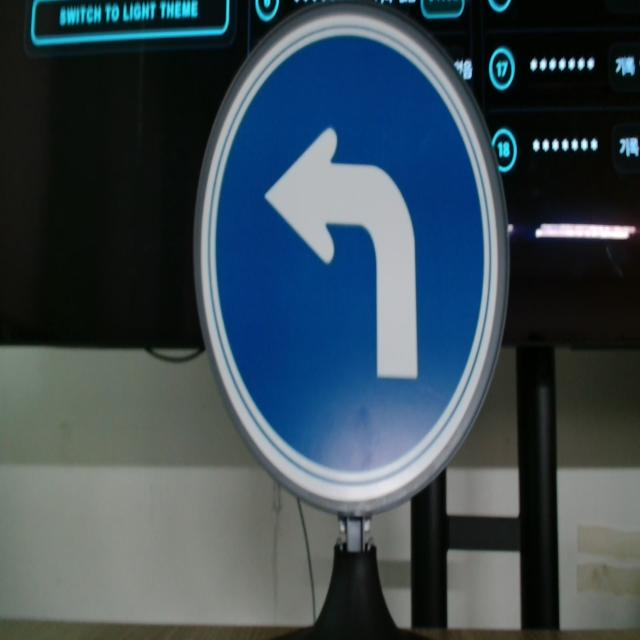left_direction: (190, 7, 510, 520)
